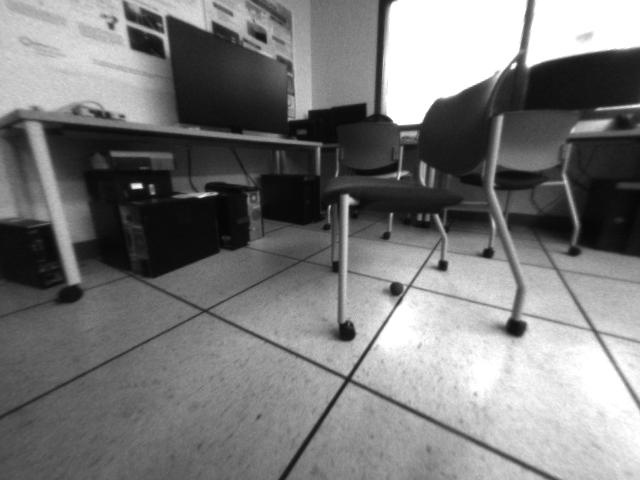dogtoy: (386, 275, 413, 301)
